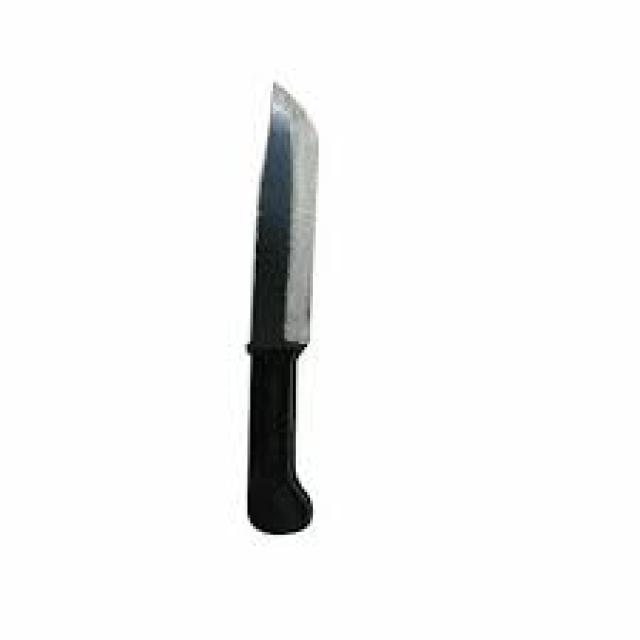Knife: (244, 80, 318, 534)
